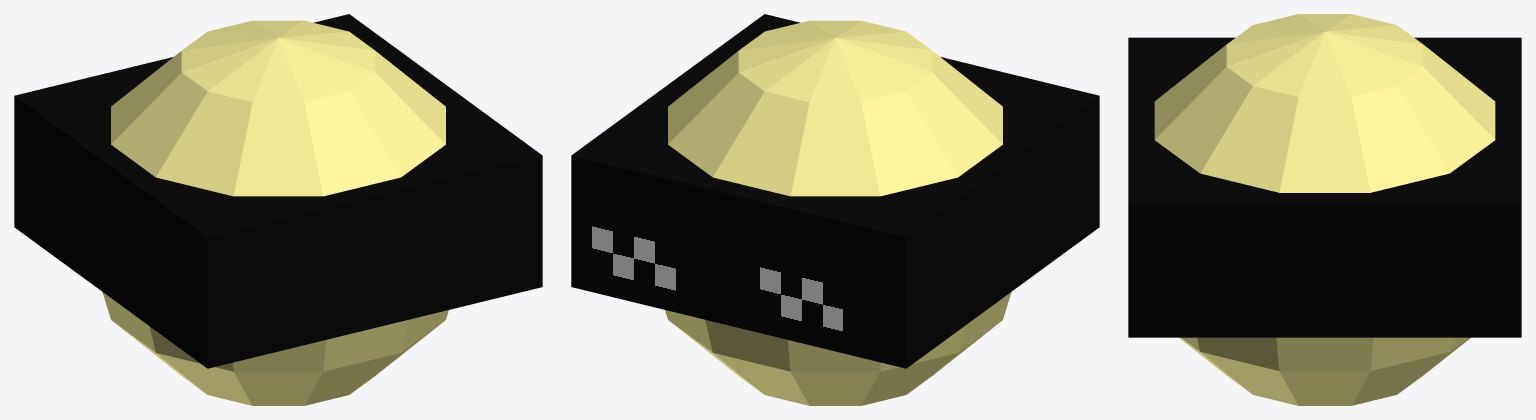
The model's file is SunPlayer.fbx.
3 views of the same model, side by side, from view 1: azimuth 30°, elevation 25°; view 2: azimuth 150°, elevation 25°; view 3: azimuth 270°, elevation 25° (orthographic).
Parts seen in each view (by area): view 1: cube, sphere; view 2: cube, sphere; view 3: cube, sphere.
Part boxes in pixels (box(x1,y1,x2,y2)): cube: box(14, 14, 542, 368); sphere: box(102, 20, 448, 405); cube: box(571, 14, 1099, 368); sphere: box(665, 20, 1011, 405); cube: box(1128, 37, 1521, 337); sphere: box(1154, 14, 1495, 405).
Size of the model in its own units: 100 by 100 by 100.
Materials: 2 (2 with a texture image).
